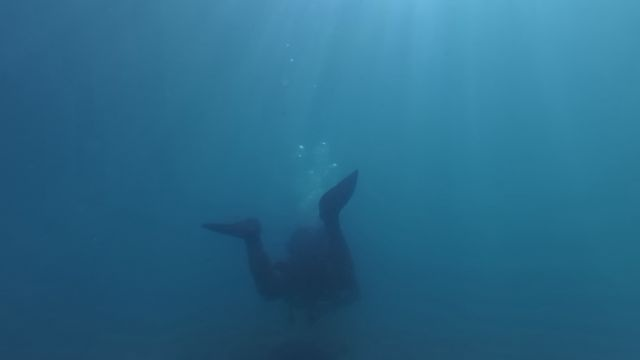Diver: (184, 163, 410, 329)
